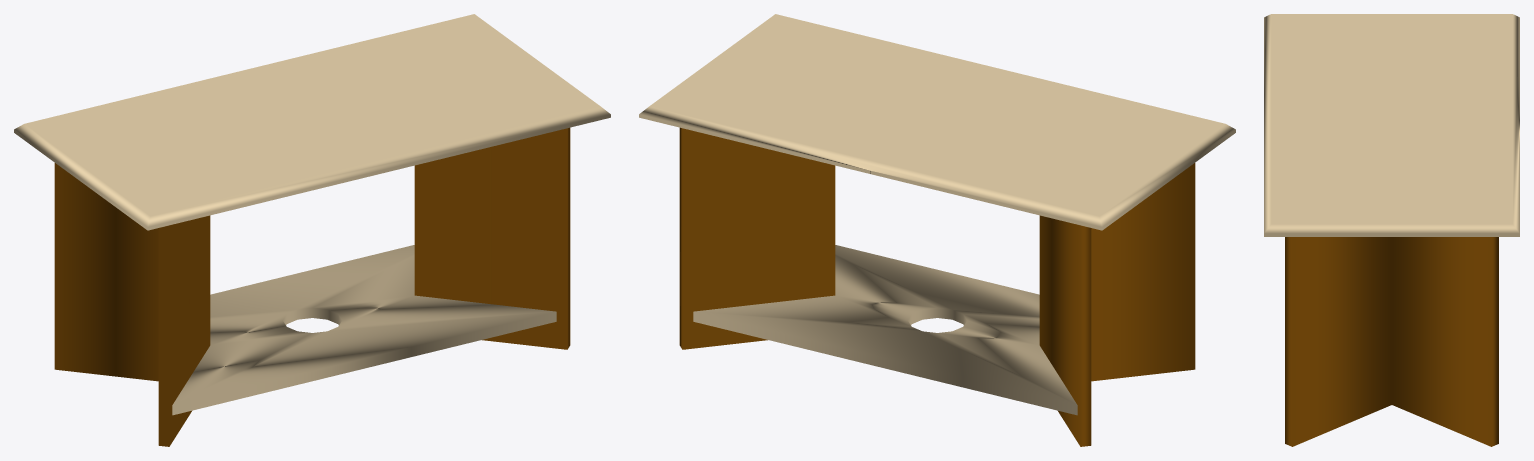
Rendered from table3.fbx.
3 views of the same model, side by side, from view 1: azimuth 30°, elevation 25°; view 2: azimuth 150°, elevation 25°; view 3: azimuth 270°, elevation 25° (orthographic). The views are drawn at different scales.
Parts seen in each view (by area): view 1: polySurface5; view 2: polySurface5; view 3: polySurface5.
Part boxes in pixels (bbox=[...]): polySurface5: bbox=[14, 14, 610, 446]; polySurface5: bbox=[639, 14, 1235, 446]; polySurface5: bbox=[1264, 14, 1519, 446].
Bounding box in the file's own units: 24.33 × 12.17 × 12.17.
